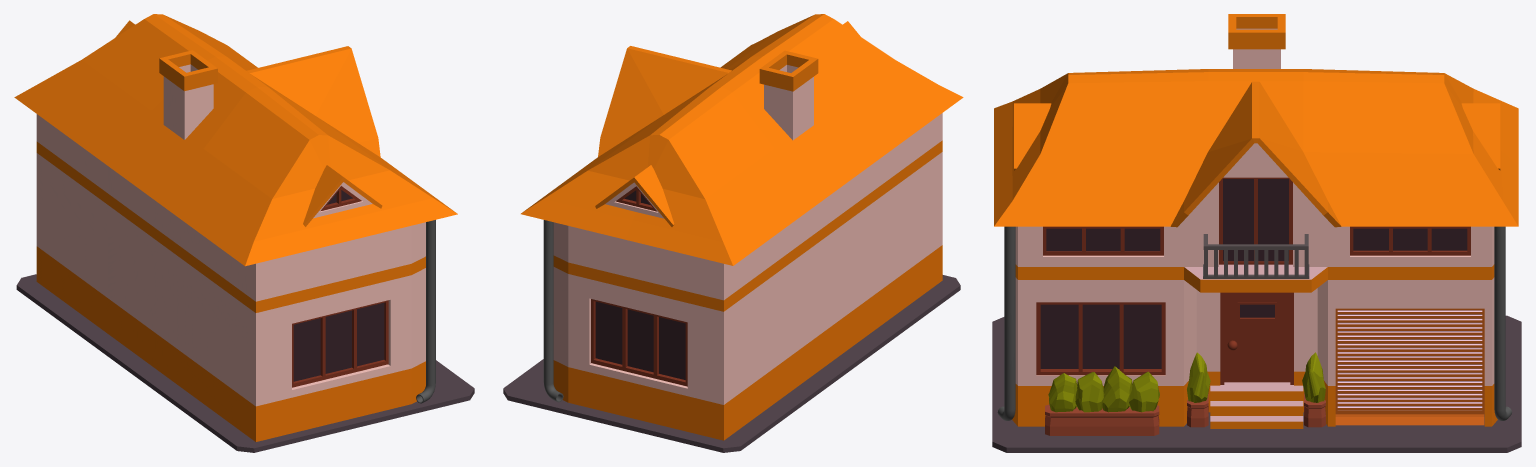
The model's file is PublicBuilding_4.glb.
The picture shows the model from 3 angles, left to right: view 1: azimuth 30°, elevation 25°; view 2: azimuth 150°, elevation 25°; view 3: azimuth 270°, elevation 25°; orthographic projection. The views are drawn at different scales.
Parts seen in each view (by area): view 1: PublicBuilding_4; view 2: PublicBuilding_4; view 3: PublicBuilding_4.
Part boxes in pixels (bbox=[...]): PublicBuilding_4: bbox=[14, 14, 474, 452]; PublicBuilding_4: bbox=[503, 14, 963, 452]; PublicBuilding_4: bbox=[992, 14, 1521, 452].
Bounding box in the file's own units: 0.0293 × 0.0344 × 0.0497.
1 material, 1 textured.
